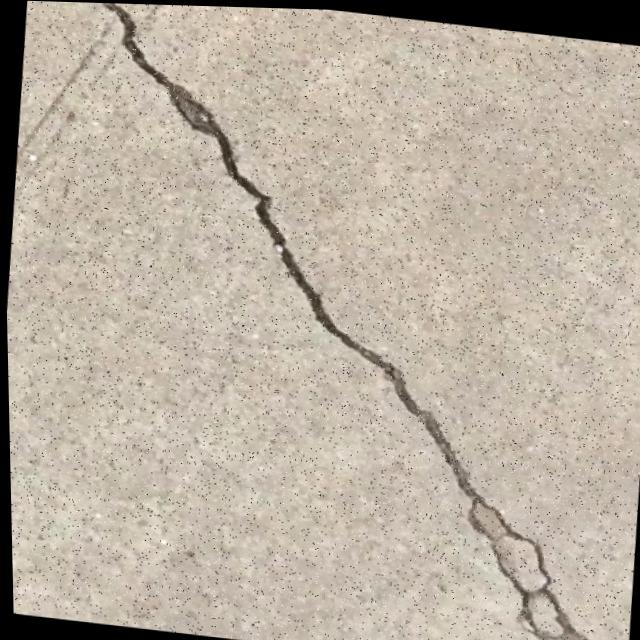Crack: (9, 0, 640, 640)
